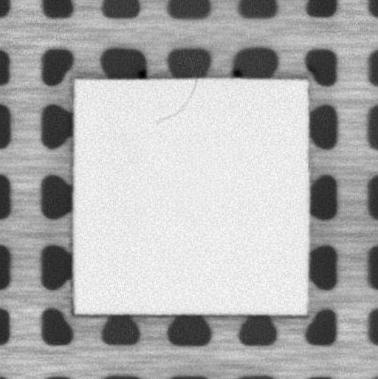DIE_CRACK: (157, 79, 200, 124)
